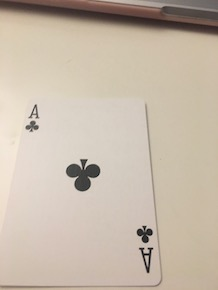AceOfClubs: (2, 90, 168, 290)
